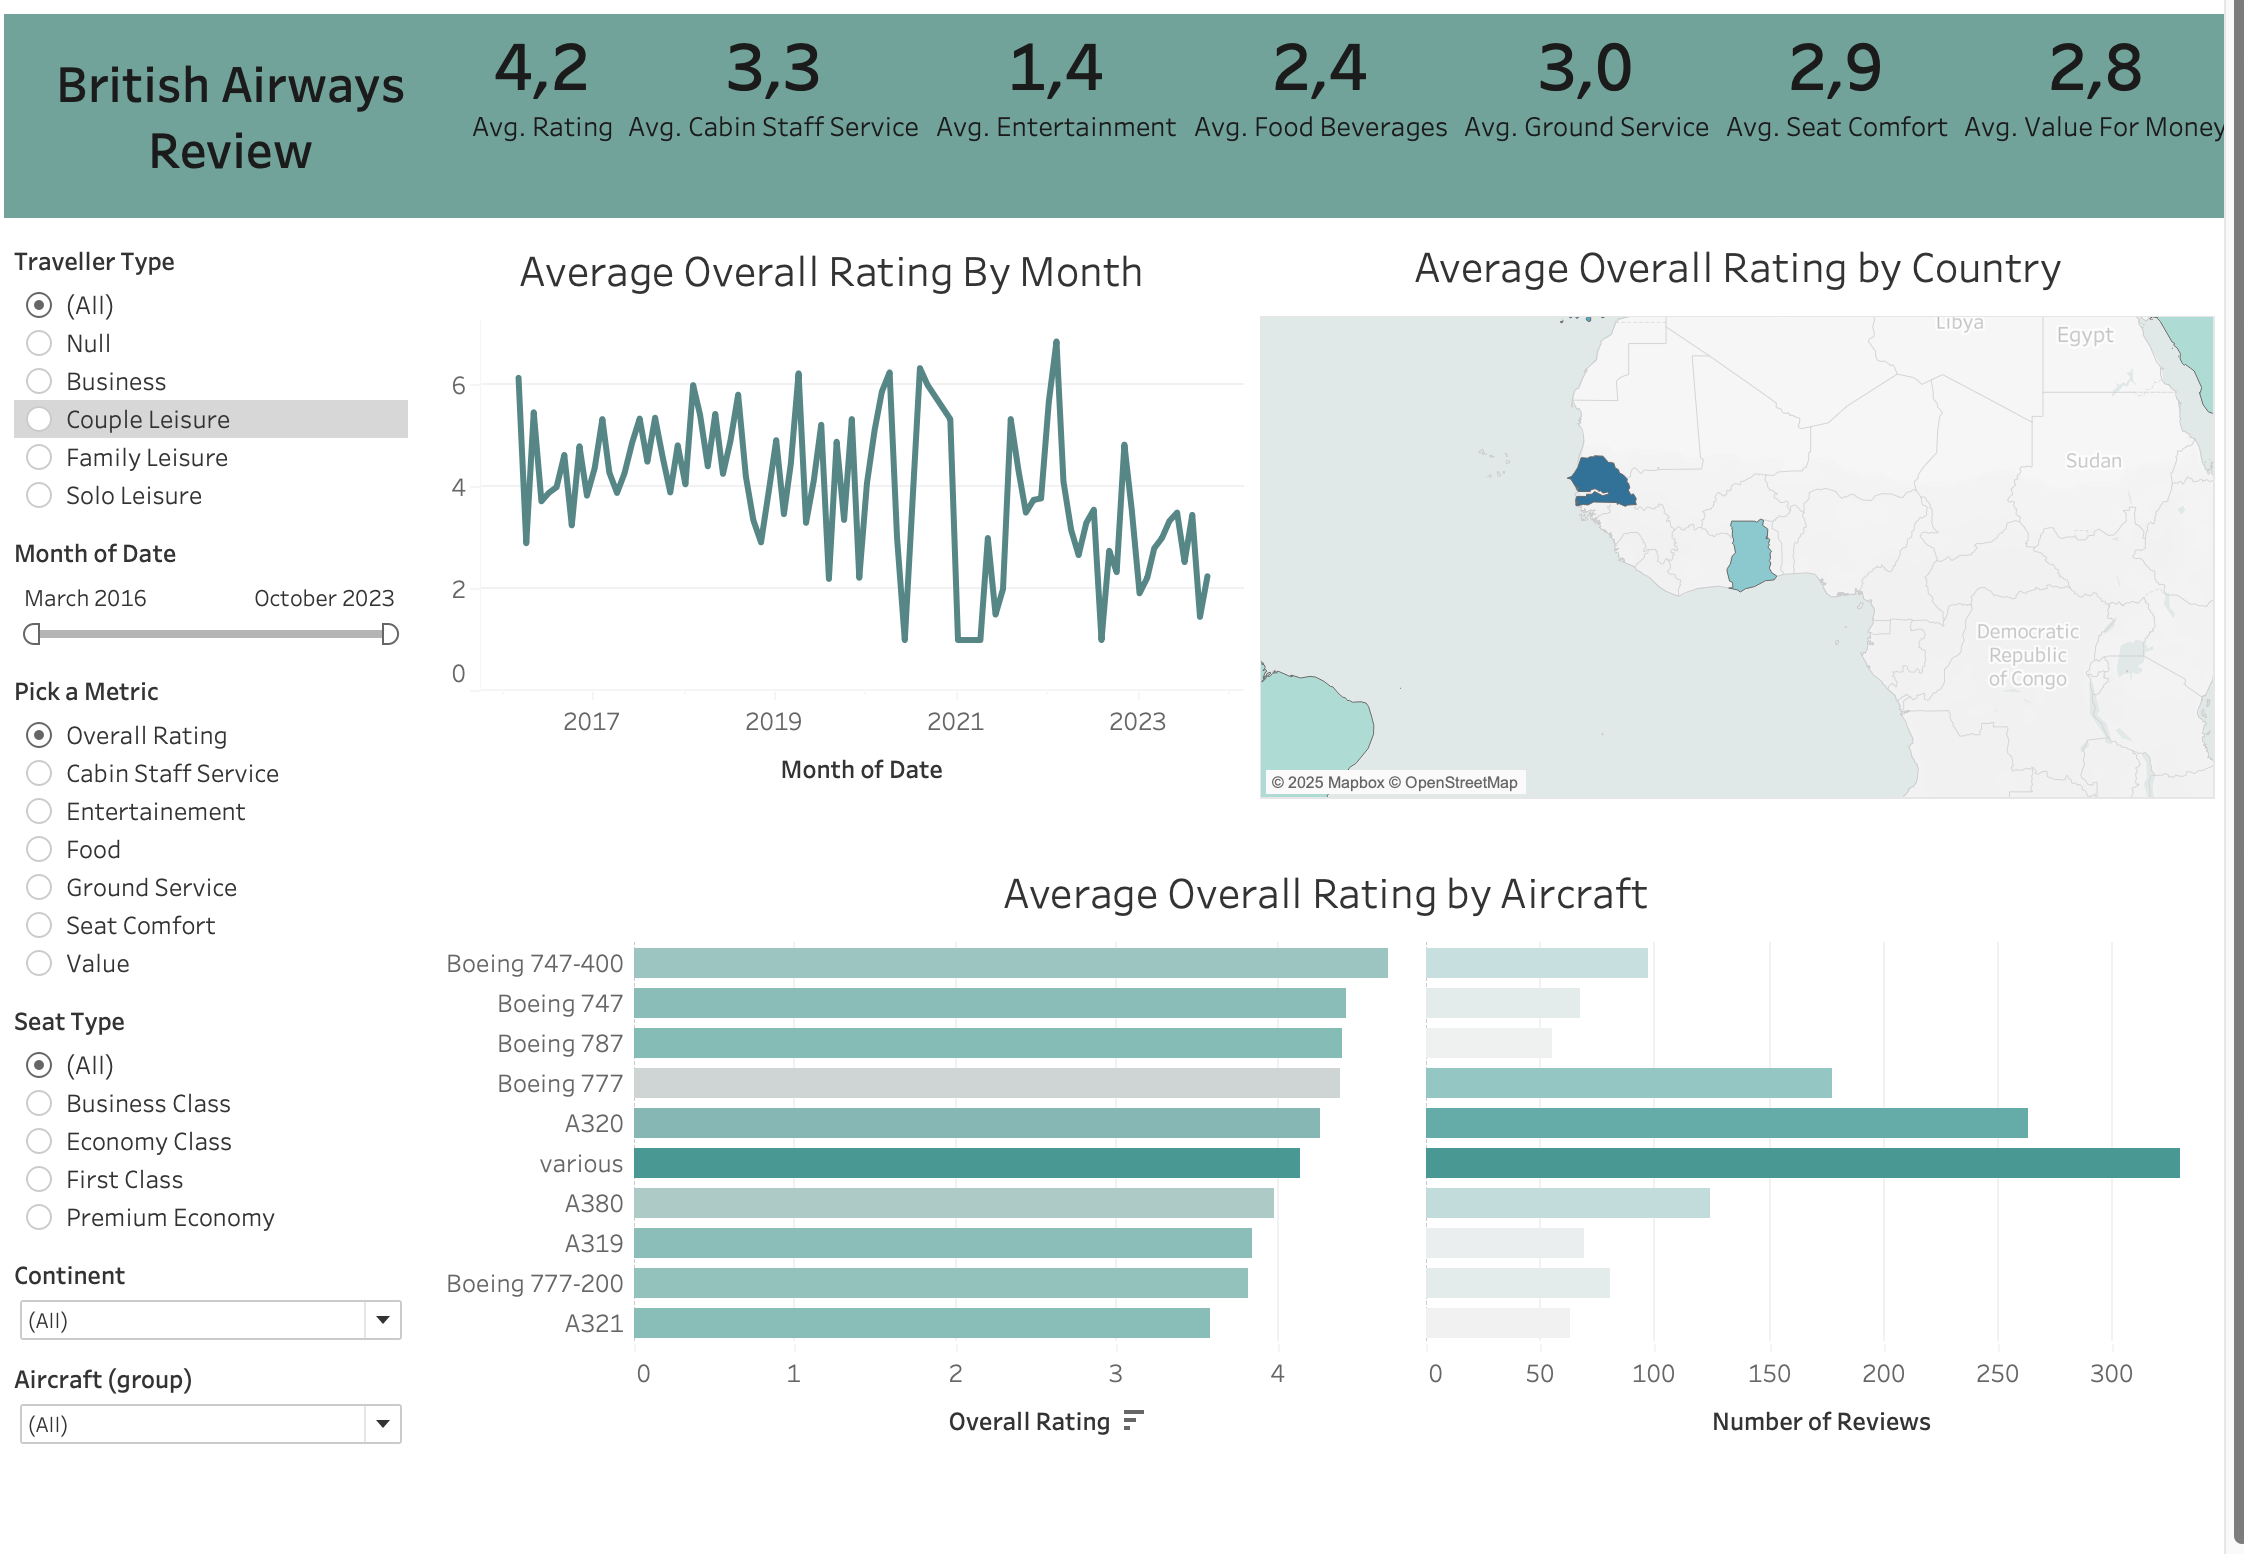

The dashboard page shown, as its layout file describes it:
{"tool":"tableau","page":{"name":"Dashboard 1","canvas":[1200,800],"ordinal":0},"visuals":[{"type":"text","box":[7,17.1,227,101.7]},{"type":"worksheet","title":"summary","mark":"Automatic","box":[233,17.1,897,101.7]},{"type":"worksheet","title":"map","mark":"Automatic","box":[635,125,478,285]},{"type":"worksheet","title":"Month","mark":"Automatic","rows":["Calculation_2129991583253995523"],"cols":["date"],"box":[215,127,412,283]},{"type":"filter","title":"map","param":"[federated.0mj9fzi1jylzbd1e2cxgk0lecpqw].[none:traveller_type:nk]","box":[8,128,205,146]},{"type":"filter","title":"map","param":"[federated.0mj9fzi1jylzbd1e2cxgk0lecpqw].[tmn:date:qk]","box":[8,274,205,69]},{"type":"parameter","param":"[Parameters].[Parameter 1]","box":[8,343,205,165]},{"type":"worksheet","title":"Sheet 4","mark":"Automatic","cols":["Calculation_2129991583253995523","ba_reviews.csv_4D0AC228E7C146A69B2940EA938AD3E1"],"box":[222,438,892,300]},{"type":"filter","title":"map","param":"[federated.0mj9fzi1jylzbd1e2cxgk0lecpqw].[none:seat_type:nk]","box":[8,508,205,127]},{"type":"filter","title":"map","param":"[federated.0mj9fzi1jylzbd1e2cxgk0lecpqw].[none:Continent:nk]","box":[8,635,205,52]},{"type":"filter","title":"map","param":"[federated.0mj9fzi1jylzbd1e2cxgk0lecpqw].[Aircraft (group)]","box":[8,687,205,52]}]}

Visuals, with their boxes on the page's 1200x800 design canvas (x1, y1, x2, y2). These are canvas units, not pixel positions in the 2244x1554 screenshot, which may show the page scaled, cropped or inside an application window:
text: <region>7, 17, 234, 119</region>
"summary" worksheet: <region>233, 17, 1130, 119</region>
"map" worksheet: <region>635, 125, 1113, 410</region>
"Month" worksheet: <region>215, 127, 627, 410</region>
"map" filter: <region>8, 128, 213, 274</region>
"map" filter: <region>8, 274, 213, 343</region>
parameter: <region>8, 343, 213, 508</region>
"Sheet 4" worksheet: <region>222, 438, 1114, 738</region>
"map" filter: <region>8, 508, 213, 635</region>
"map" filter: <region>8, 635, 213, 687</region>
"map" filter: <region>8, 687, 213, 739</region>
